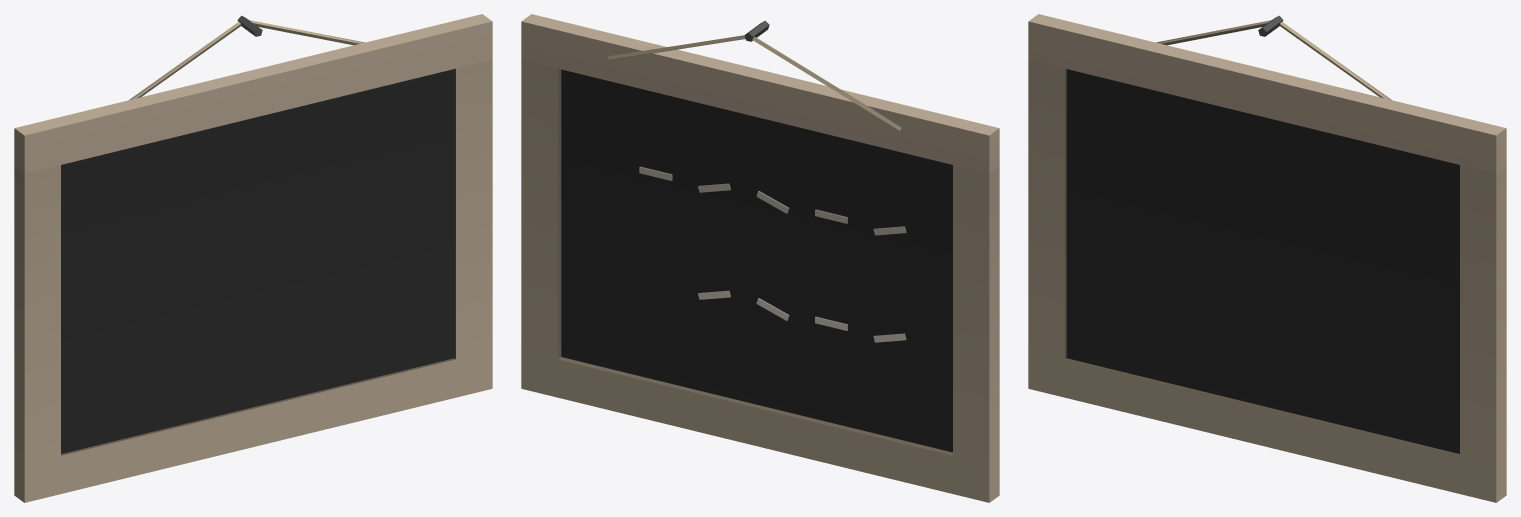
Rendered from slate_board.glb.
3 views of the same model, side by side, from view 1: azimuth 30°, elevation 25°; view 2: azimuth 150°, elevation 25°; view 3: azimuth 330°, elevation 25° (orthographic).
Visible parts, largest first — view 1: static; view 2: static; view 3: static.
Part boxes in pixels (x1,y1,x2,y2): static: (14, 14, 492, 502); static: (521, 14, 999, 502); static: (1028, 14, 1506, 502).
Size of the model in its own units: 0.32 by 0.273 by 0.02.
